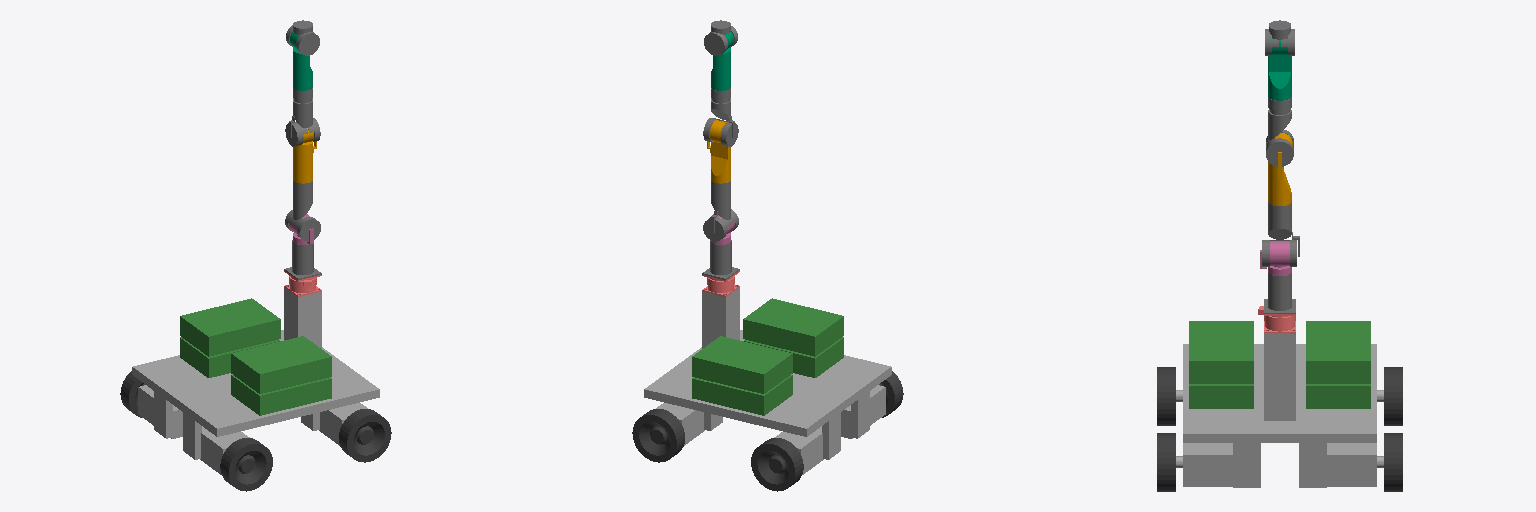
The robot description file, URDF, robot "hyuspa":
<?xml version="1.0" ?>
<robot name="hyuspa">
  <link name="world">
      <inertial>
          <mass value="0.000001" />
          <origin xyz="0.0 0.0 0.0" rpy="0 0 0" />
          <inertia ixx="0.000001" ixy="0" ixz="0" iyy="0.000001" iyz="0" izz="0.000001" />
      </inertial>
  </link>
   <joint name="lin_x_joint" type="prismatic">
    <origin rpy="0 0 0" xyz="0 0 0"/>
    <axis xyz="1 0 0"/>
    <limit effort="1000.0" lower="-1e+16" upper="1e+16" velocity="3.5"/>
    <joint_properties damping="1" friction="1"/>
    <parent link="world"/>
    <child link="lin_x_link"/>
  </joint>
  <link name="lin_x_link">
      <inertial>
          <mass value="0.000001" />
          <origin xyz="0.0 0.0 0.0" rpy="0 0 0" />
          <inertia ixx="0.000001" ixy="0" ixz="0" iyy="0.000001" iyz="0" izz="0.000001" />
      </inertial>
  </link>
  <joint name="lin_y_joint" type="prismatic">
    <origin rpy="0 0 0" xyz="0 0 0"/>
    <axis xyz="0 1 0"/>
    <limit effort="1000.0" lower="-1e+16" upper="1e+16" velocity="3.5"/>
    <joint_properties damping="1" friction="1"/>
    <parent link="lin_x_link"/>
    <child link="lin_y_link"/>
  </joint>
  <link name="lin_y_link">
      <inertial>
          <mass value="0.000001" />
          <origin xyz="0.0 0.0 0.0" rpy="0 0 0" />
          <inertia ixx="0.000001" ixy="0" ixz="0" iyy="0.000001" iyz="0" izz="0.000001" />
      </inertial>
  </link>
  <joint name="rot_z_joint" type="revolute">
    <origin rpy="0 0 0" xyz="0 0 0"/>
    <axis xyz="0 0 1"/>
    <limit effort="1000.0" lower="-1e+16" upper="1e+16" velocity="3.5"/>
    <joint_properties damping="1" friction="1"/>
    <parent link="lin_y_link"/>
    <child link="base_link"/>
  </joint>
    <link name="base_link">
      <inertial>
          <mass value="0.000001" />
          <origin xyz="0.0 0.0 0.0" rpy="0 0 0" />
          <inertia ixx="0.000001" ixy="0" ixz="0" iyy="0.000001" iyz="0" izz="0.000001" />
      </inertial>
  </link>
  <joint name="world_to_base_joint" type="fixed">
      <axis xyz="0 1 0"/>
    <parent link="base_link"/>
    <child link="Mobile_base"/>
    <origin rpy="0 0 0" xyz="0 0 0"/>
  </joint>
  
  <link name="Mobile_base">
    <inertial>
      <origin rpy="0 0 0" xyz="0.0 0 0.0"/>
      <mass value="20"/>
	<inertia  ixx="0.6364809810908426" ixy="0" ixz="0" iyy="0.548438298901579" iyz="0" izz="1.0998113136639867" />


    </inertial>
    <visual>
      <origin rpy="0 0 0" xyz="0 0 0"/>
      <geometry>
        <mesh filename="mesh/mobile_base.stl" scale="1 1 1"/>
      </geometry>
            <material name="lightgray">
        <color rgba="0.7 0.7 0.7 1"/>
      </material>
    </visual>
    <collision>
      <origin rpy="0 0 0" xyz="0 0 0"/>
	   <geometry>
           <mesh filename="mesh/mobile_base.stl" scale="1 1 1"/>
	   </geometry>
		</collision>
  </link>
  
  
  
<link name="left_front_wheel">
		<inertial>
			<origin rpy="0.00000 -0.00000 0.00000" xyz="0.00000 0.00000 0.00000"/>
						<mass value="2.00000"/>
<inertia  ixx="0.004202690800558223" ixy="0" ixz="0" iyy="0.00760033113725996" iyz="0" izz="0.004202690800558223" />

		</inertial>
		<visual>
			<origin rpy="0.00000 -0.00000 0.00000" xyz="0.00000 0.00000 0.00000"/>
			<geometry>
				<mesh filename="mesh/wheel.stl" scale="1.00000 1.00000 1.00000"/>
			</geometry>
		   	 <material name="dark">
	    		    <color rgba="0.3 0.3 0.3 1"/>
	     		 </material>

		</visual>
		<collision>
			<origin rpy="0.00000 -0.00000 0.00000" xyz="0.00000 0.00000 0.00000"/>
			<geometry>
                              <sphere radius="0.0755"/>
			</geometry>
		</collision>
</link>
<link name="right_front_wheel">
		<inertial>
			<origin rpy="0.00000 -0.00000 0.00000" xyz="0.00000 0.00000 0.00000"/>
			<mass value="2.00000"/>
<inertia  ixx="0.004202690800558223" ixy="0" ixz="0" iyy="0.00760033113725996" iyz="0" izz="0.004202690800558223" />

		</inertial>
		<visual>
			<origin rpy="0.00000 -0.00000 0.00000" xyz="0.00000 0.00000 0.00000"/>
			<geometry>
				<mesh filename="mesh/wheel.stl" scale="1.00000 1.00000 1.00000"/>
			</geometry>
		   	 <material name="dark">
	    		    <color rgba="0.3 0.3 0.3 1"/>
	     		 </material>

		</visual>
		<collision>
			<origin rpy="0.00000 -0.00000 0.00000" xyz="0.00000 0.00000 0.00000"/>
			<geometry>
                              <sphere radius="0.0755"/>
			</geometry>
		</collision>
</link>
<link name="left_back_wheel">
		<inertial>
			<origin rpy="0.00000 -0.00000 0.00000" xyz="0.00000 0.00000 0.00000"/>
						<mass value="2.00000"/>
<inertia  ixx="0.004202690800558223" ixy="0" ixz="0" iyy="0.00760033113725996" iyz="0" izz="0.004202690800558223" />

		</inertial>
		<visual>
			<origin rpy="0.00000 -0.00000 0.00000" xyz="0.00000 0.00000 0.00000"/>
			<geometry>
				<mesh filename="mesh/wheel.stl" scale="1.00000 1.00000 1.00000"/>
			</geometry>
		   	 <material name="dark">
	    		    <color rgba="0.3 0.3 0.3 1"/>
	     		 </material>

		</visual>
		<collision>
			<origin rpy="0.00000 -0.00000 0.00000" xyz="0.00000 0.00000 0.00000"/>
			<geometry>
                              <sphere radius="0.0755"/>
			</geometry>
		</collision>
</link>
<link name="right_back_wheel">
		<inertial>
			<origin rpy="0.00000 -0.00000 0.00000" xyz="0.00000 0.00000 0.00000"/>
						<mass value="2.00000"/>
<inertia  ixx="0.004202690800558223" ixy="0" ixz="0" iyy="0.00760033113725996" iyz="0" izz="0.004202690800558223" />

		</inertial>
		<visual>
			<origin rpy="0.00000 -0.00000 0.00000" xyz="0.00000 0.00000 0.00000"/>
			<geometry>
				<mesh filename="mesh/wheel.stl" scale="1.00000 1.00000 1.00000"/>
			</geometry>
		   	 <material name="dark">
	    		    <color rgba="0.3 0.3 0.3 1"/>
	     		 </material>

		</visual>
		<collision>
			<origin rpy="0.00000 -0.00000 0.00000" xyz="0.00000 0.00000 0.00000"/>
			<geometry>
                              <sphere radius="0.0755"/>
			</geometry>
		</collision>
</link>
	<joint name="left_front_wheel_joint" type="fixed">
		<parent link="Mobile_base"/>
		<child link="left_front_wheel"/>
		<dynamics damping="1.0" friction="0.01"/>
		<origin rpy="0 0.00000 0.00000" xyz="-0.20100 0.29320 0.0755"/>
		<axis xyz="0.00000 0.00000 1.00000"/>
	</joint>
  	<joint name="right_front_wheel_joint" type="fixed">
		<parent link="Mobile_base"/>
		<child link="right_front_wheel"/>
		<dynamics damping="1.0" friction="0.01"/>
		<origin rpy="0 -0.00000 0.00000" xyz="-0.20100 -0.29320 0.0755"/>
		<axis xyz="0.00000 0.00000 1.00000"/>
	</joint>
	<joint name="left_back_wheel_joint" type="fixed">
		<parent link="Mobile_base"/>
		<child link="left_back_wheel"/>
		<dynamics damping="1.0" friction="0.01"/>
		<origin rpy="0 0.00000 0.00000" xyz="0.20100 0.29320 0.0755"/>
		<axis xyz="0.00000 0.00000 1.00000"/>
	</joint>	
  	<joint name="right_back_wheel_joint" type="fixed">
		<parent link="Mobile_base"/>
		<child link="right_back_wheel"/>
		<dynamics damping="1.0" friction="0.01"/>
		<origin rpy="0 -0.00000 0.00000" xyz="0.20100 -0.29320 0.0755"/>
		<axis xyz="0.00000 0.00000 1.00000"/>
	</joint>
  
    
  
  
  
  
  <joint name="Mobile_to_profile" type="fixed">
      <axis xyz="0 1 0"/>
    <parent link="Mobile_base"/>
    <child link="Base_profile"/>
    <origin rpy="0 0 1.57" xyz="0.1595 0 0.191"/>
  </joint>
  
 <joint name="Base_battery_joint" type="fixed">
      <axis xyz="0 0 1"/>
    <parent link="Mobile_base"/>
    <child link="Battery"/>
    <origin rpy="0 0 0" xyz="0 0 0.191"/>
  </joint>
<link name="Battery">
    <inertial>
      <origin rpy="0 0 0" xyz="0.0 0 0.0"/>
      <mass value="10"/>
		<inertia  ixx="0.19885759196781463" ixy="0" ixz="0" iyy="0.06527160403076862" iyz="0" izz="0.23385201533248226" />


    </inertial>
    <visual>
      <origin rpy="0 0 0" xyz="0 0 0"/>
      <geometry>
        <mesh filename="mesh/battery.stl" scale="1 1 1"/>
      </geometry>
            <material name="green">
        <color rgba="0.3 0.6 0.3 1"/>
      </material>
    </visual>
    <collision>
      <origin rpy="0 0 0" xyz="0 0 0"/>
	   <geometry>
           <mesh filename="mesh/battery.stl" scale="1 1 1"/>
	   </geometry>
		</collision>
  </link>





<link name="Base_profile">
    <inertial>
      <origin rpy="0 0 0" xyz="0.0 0 0.0"/>
      <mass value="2"/>
      <inertia  ixx="0.011483333484331771" ixy="0" ixz="0" iyy="0.011483333285649617" iyz="0" izz="0.0021333334366480565" />


    </inertial>
    <visual>
      <origin rpy="0 0 0" xyz="0 0 0"/>
      <geometry>
        <mesh filename="mesh/base_profile.stl" scale="1 1 1"/>
      </geometry>
            <material name="lightgray">
        <color rgba="0.7 0.7 0.7 1"/>
      </material>
    </visual>
    <collision>
      <origin rpy="0 0 0" xyz="0 0 0"/>
	   <geometry>
           <mesh filename="mesh/base_profile.stl" scale="1 1 1"/>
	   </geometry>
		</collision>
  </link>

 
<joint name="Base_profile_joint" type="fixed">
      <axis xyz="0 0 1"/>
    <parent link="Base_profile"/>
    <child link="FT_sensor1"/>
    <origin rpy="0 0 0" xyz="0 0 0.25"/>
  </joint>
  
  
    <link name="FT_sensor1">
    <inertial>
      <origin rpy="0 0 0" xyz="0.0 0 0.0"/>
      <mass value="0.50"/>
		<inertia  ixx="0.00037817710459232357" ixy="0" ixz="0" iyy="0.0004919276651402816" iyz="0" izz="0.0006740839248359706" />


    </inertial>
    <visual>
      <origin rpy="0 0 0" xyz="0 0 0"/>
      <geometry>
        <mesh filename="mesh/FT_sensor1.stl" scale="1 1 1"/>
      </geometry>
            <material name="orange">
        <color rgba="1 0.5 0.5 1"/>
      </material>
    </visual>
    <collision>
      <origin rpy="0 0 0" xyz="0 0 0"/>
	   <geometry>
           <mesh filename="mesh/FT_sensor1.stl" scale="1 1 1"/>
	   </geometry>
		</collision>
  </link>

<joint name="FT_sensor_joint1" type="fixed">
      <axis xyz="0 0 1"/>
    <parent link="FT_sensor1"/>
    <child link="FT_sensor2"/>
    <origin rpy="0 0 0" xyz="0 0 0.0435"/>
  </joint>
  
      <link name="FT_sensor2">
    <inertial>
      <origin rpy="0 0 0" xyz="0.0 0 0.049473"/>
      <mass value="0.10"/>
	<inertia  ixx="5.434167420566109e-05" ixy="0" ixz="0" iyy="5.434167420566109e-05" iyz="0" izz="0.00010666668176651054" />

    </inertial>
    <visual>
      <origin rpy="0 0 0" xyz="0 0 0"/>
      <geometry>
        <mesh filename="mesh/FT_sensor2.stl" scale="1 1 1"/>
      </geometry>
            <material name="orange">
        <color rgba="1 0.5 0.5 1"/>
      </material>
    </visual>
    <collision>
      <origin rpy="0 0 0" xyz="0 0 0"/>
	   <geometry>
           <mesh filename="mesh/FT_sensor2.stl" scale="1 1 1"/>
	   </geometry>
		</collision>
  </link>
<joint name="FT_sensor_joint2" type="fixed">
      <axis xyz="0 0 1"/>
    <parent link="FT_sensor2"/>
    <child link="SPA_Base_Link"/>
    <origin rpy="0 0 0" xyz="0 0 0.011"/>
  </joint>
  

  <link name="SPA_Base_Link">
    <inertial>
      <origin rpy="0 0 0" xyz="0.0 0 0.049473"/>
      <mass value="0.70"/>
       <inertia  ixx="0.0010029327106437908" ixy="0" ixz="0" iyy="0.0010029327106437908" iyz="0" izz="0.0007466666332880659" />

    </inertial>
    <visual>
      <origin rpy="0 0 0" xyz="0 0 0"/>
      <geometry>
        <mesh filename="mesh/SPA_Base_Link_.stl" scale="1 1 1"/>
      </geometry>
            <material name="darkgray">
        <color rgba="0.5 0.5 .5 1"/>
      </material>
    </visual>
    <collision>
      <origin rpy="0 0 0" xyz="0 0 0"/>
	   <geometry>
           <mesh filename="mesh/SPA_Base_Link_.stl" scale="1 1 1"/>
	   </geometry>
		</collision>
  </link>

 <joint name="Arm_Joint_1" type="revolute">
    <axis xyz="0 0 1"/>
    <limit effort="50" lower="-2.63" upper="1.57" velocity="4"/>
    <origin rpy="0 0 0" xyz="0 0 0.1007"/>
    <!--<origin rpy="0 0 0" xyz="0 -0.3107 1.567"/>-->
    <parent link="SPA_Base_Link"/>
    <child link="SPA_Link_01"/>
    <dynamics damping="0.0" friction="0.7"/>
  </joint>

  <link name="SPA_Link_01">
    <inertial>
      <mass value="0.63842732"/>
      <origin rpy="0 0 0" xyz="0.001501 0 0.042572"/>
      <inertia  ixx="0.0006373691668954742" ixy="0" ixz="0" iyy="0.000849839011803842" iyz="0" izz="0.0006631363980959179" />
    </inertial>
    <visual>
      <origin rpy="0 0 0" xyz="0 0 0"/>
      <geometry>
        <mesh filename="mesh/SPA_Link_01_.stl" scale="1 1 1"/>
      </geometry>
    </visual>
    <collision>
      <origin rpy="0 0 0" xyz="0 0 0"/>
      <geometry>
        <mesh filename="mesh/SPA_Link_01_.stl" scale="1 1 1"/>
      </geometry>
    </collision>
  </link>
  
   <joint name="Arm_Joint_2" type="revolute">
    <axis xyz="1 0 0"/>
    <limit effort="50" lower="-0.6981" upper="1.9" velocity="4"/>
    <origin rpy="0 0 0" xyz="0  0 0.054"/>
    <parent link="SPA_Link_01"/>
    <child link="SPA_Link_02"/>
  </joint>

  <link name="SPA_Link_02">
    <inertial>
      <mass value="0.60158865"/>
      <origin rpy="0 0 0" xyz="0.000454 0.002601 0.084558"/>
	<inertia  ixx="0.0019298351729750375" ixy="0" ixz="0" iyy="0.002139570417456227" iyz="0" izz="0.0007101707589097746" />

    </inertial>
    <visual>
      <origin rpy="0 0 0" xyz="0 0 0"/>
      <geometry>
        <mesh filename="mesh/SPA_Link_02_.stl" scale="1 1 1"/>
      </geometry>
       <material name="darkgray">
        <color rgba="0.5 0.5 .5 1"/>
      </material>
    </visual>
        <collision>
			<origin rpy="0.00000 -0.00000 0.00000" xyz="0.00000 0.00000 0.00000"/>
			<geometry>
              <mesh filename="mesh/SPA_Link_02_.stl" scale="1 1 1"/>
			</geometry>
		</collision>
  </link>

  <joint name="Arm_Joint_3" type="revolute">
    <axis xyz="0 0 1"/>
    <limit effort="50" lower="-1.34" upper="1.09" velocity="2.4"/>
    <origin rpy="0 0 0" xyz="0 0 0.1458"/>
    <parent link="SPA_Link_02"/>
    <child link="SPA_Link_03"/>
    <dynamics damping="0.0" friction="0.7"/>
  </joint>

  <link name="SPA_Link_03">
    <inertial>
      <mass value="0.74955005"/>
      <origin rpy="0 0 0" xyz="-0.002133 -0.000212 0.098828"/>
<inertia  ixx="0.002611807753540268" ixy="0" ixz="0" iyy="0.0024847824484913357" iyz="0" izz="0.0006518819145580365" />

    </inertial>
    <visual>
      <origin rpy="0 0 0" xyz="0 0 0"/>
      <geometry>
        <mesh filename="mesh/SPA_Link_03_.stl" scale="1 1 1"/>
      </geometry>
    </visual>
  <collision>
			<origin rpy="0.00000 -0.00000 0.00000" xyz="0.00000 0.00000 0.00000"/>
			<geometry>
        <mesh filename="mesh/SPA_Link_03_.stl" scale="1 1 1"/>
			</geometry>
		</collision>


  </link>
  <joint name="Arm_Joint_4" type="revolute">
    <axis xyz="0 1 0"/>
    <limit effort="50" lower="-0.156" upper="2.48" velocity="4"/>
    <origin rpy="0 0 0" xyz="0 0 0.1542 "/>
    <parent link="SPA_Link_03"/>
    <child link="SPA_Link_04"/>
    <dynamics damping="0.0" friction="0.7"/>
  </joint>
  
  <link name="SPA_Link_04">
    <inertial>
      <mass value="0.57916453"/>
      <origin rpy="0 0 0" xyz="0.002354 -0.00032 0.094781"/>
<inertia  ixx="0.001961136896341702" ixy="0" ixz="0" iyy="0.0018738900658110185" iyz="0" izz="0.0005885963056886639" />

    </inertial>
    <visual>
      <origin rpy="0 0 0" xyz="0 0 0"/>
      <geometry>
        <mesh filename="mesh/SPA_Link_04_.stl" scale="1 1 1"/>
      </geometry>
             <material name="darkgray">
        <color rgba="0.5 0.5 .5 1"/>
      </material>
    </visual>
  <collision>
			<origin rpy="0.00000 -0.00000 0.00000" xyz="0.00000 0.00000 0.00000"/>
			<geometry>
        <mesh filename="mesh/SPA_Link_04_.stl" scale="1 1 1"/>
			</geometry>
		</collision>


  </link>
   <joint name="Arm_Joint_5" type="revolute">
    <axis xyz="0 0 1"/>
    <limit effort="50" lower="-3.14" upper="3.14" velocity="4"/>
    <origin rpy="0 0 0" xyz="0 0 0.1458 "/>
    <parent link="SPA_Link_04"/>
    <child link="SPA_Link_05"/>
    <dynamics damping="0.0" friction="0.7"/>
  </joint>
 
  <link name="SPA_Link_05">
    <inertial>
      <mass value="0.74955005"/>
      <origin rpy="0 0 0" xyz="0 0.002249 0.09774"/>
<inertia  ixx="0.002377289656318586" ixy="0" ixz="0" iyy="0.002377289656318586" iyz="0" izz="0.0005201310076938109" />
    </inertial>
    <visual>
      <origin rpy="0 0 0" xyz="0 0 0"/>
      <geometry>
        <mesh filename="mesh/SPA_Link_05_.stl" scale="1 1 1"/>
      </geometry>
    </visual>
  <collision>
			<origin rpy="0.00000 -0.00000 0.00000" xyz="0.00000 0.00000 0.00000"/>
			<geometry>
        <mesh filename="mesh/SPA_Link_05_.stl" scale="1 1 1"/>
			</geometry>
		</collision>

  </link>
  
   <joint name="Arm_Joint_6" type="revolute">
    <axis xyz="1 0 0"/>
    <limit effort="50" lower="-1.41" upper="1.392" velocity="4"/>
    <origin rpy="0 0 0" xyz="0 0 0.1542 "/>
    <parent link="SPA_Link_05"/>
    <child link="SPA_Link_06"/>
    <dynamics damping="0.0" friction="0.7"/>
  </joint>

  <link name="SPA_Link_06">
    <inertial>
      <mass value="0.59063954"/>
      <origin rpy="0 0 0" xyz="0.000084 -0.001022 0.00897"/>
<inertia  ixx="0.0018732855385104271" ixy="0" ixz="0" iyy="0.0018732855385104271" iyz="0" izz="0.0004098591403255979" />
    </inertial>
    <visual>
      <origin rpy="0 0 0" xyz="0 0 0"/>
      <geometry>
        <mesh filename="mesh/SPA_Link_06_.stl" scale="1 1 1"/>
      </geometry>
             <material name="darkgray">
        <color rgba="0.5 0.5 .5 1"/>
      </material>
    </visual>
  <collision>
			<origin rpy="0.00000 -0.00000 0.00000" xyz="0.00000 0.00000 0.00000"/>
			<geometry>
        <mesh filename="mesh/SPA_Link_06_.stl" scale="1 1 1"/>
			</geometry>
		</collision>

  </link>
</robot>

--- What the picture shows (computed from the rendered views, not written in the file) ---
3 views of the same robot in one strip: view 1: azimuth 30°, elevation 25°; view 2: azimuth 150°, elevation 25°; view 3: azimuth 270°, elevation 25° (orthographic).
Model hyuspa with 20 links and 19 joints (7 revolute, 2 prismatic, 10 fixed), rooted at world, posed every joint at zero.
Links seen in each view (by area): view 1: Mobile_base, Battery, right_front_wheel, right_back_wheel, Base_profile, SPA_Link_04, SPA_Link_02, SPA_Link_03, SPA_Base_Link, SPA_Link_05, SPA_Link_06, left_front_wheel; view 2: Mobile_base, Battery, left_front_wheel, left_back_wheel, Base_profile, SPA_Link_02, SPA_Link_04, SPA_Link_03, SPA_Base_Link, SPA_Link_05, SPA_Link_06, right_front_wheel; view 3: Mobile_base, Battery, Base_profile, SPA_Link_04, SPA_Link_02, SPA_Link_05, left_front_wheel, right_front_wheel, left_back_wheel, right_back_wheel, SPA_Base_Link, SPA_Link_03 (+3 smaller).
Link boxes in pixels (x1,y1,x2,y2): Mobile_base: (132,330,379,474); Battery: (180,298,331,415); right_front_wheel: (220,438,272,491); right_back_wheel: (339,409,391,462); Base_profile: (284,287,321,348); SPA_Link_04: (285,88,320,146); SPA_Link_02: (285,181,320,241); SPA_Link_03: (293,128,316,183); SPA_Base_Link: (284,240,321,279); SPA_Link_05: (290,32,312,90); SPA_Link_06: (286,20,319,55); left_front_wheel: (120,371,144,417); Mobile_base: (644,330,891,474); Battery: (692,298,843,415); left_front_wheel: (751,438,803,491); left_back_wheel: (632,409,684,462); Base_profile: (702,287,739,348); SPA_Link_02: (703,181,738,241); SPA_Link_04: (703,88,738,146); SPA_Link_03: (707,120,730,183); SPA_Base_Link: (702,240,739,279); SPA_Link_05: (711,32,733,90); SPA_Link_06: (704,20,737,55); right_front_wheel: (879,371,903,417); Mobile_base: (1176,344,1383,487); Battery: (1189,321,1370,408); Base_profile: (1264,333,1295,420); SPA_Link_04: (1266,97,1293,166); SPA_Link_02: (1262,202,1299,266); SPA_Link_05: (1268,38,1291,100); left_front_wheel: (1384,367,1402,425); right_front_wheel: (1157,367,1175,425); left_back_wheel: (1384,433,1402,491); right_back_wheel: (1157,433,1175,491); SPA_Base_Link: (1264,273,1295,313); SPA_Link_03: (1268,133,1292,205).
Bounding box of the posed robot: 0.553 × 0.6355 × 1.3 m (x, y, z).
16 mesh visuals loaded from 13 distinct referenced files (13 binary STL).
